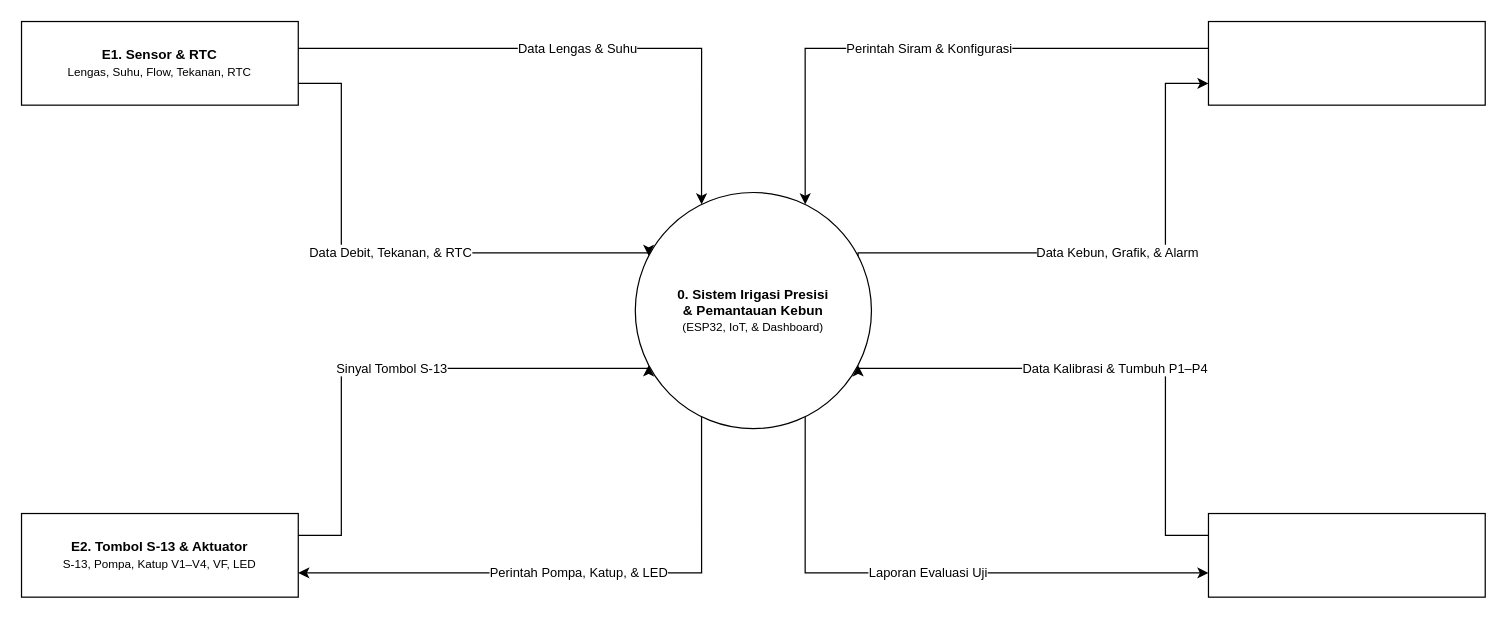
Image size: 1507x619. Some labels were removed from this diagram. Each missing label, with the box of its shape:
E3. Mitra & Pekerja Pengguna Dashboard Web & HP: (1207, 20, 1485, 105)
E4. Tim Pengamat Pengambil Data & Kalibrasi: (1207, 512, 1485, 597)
